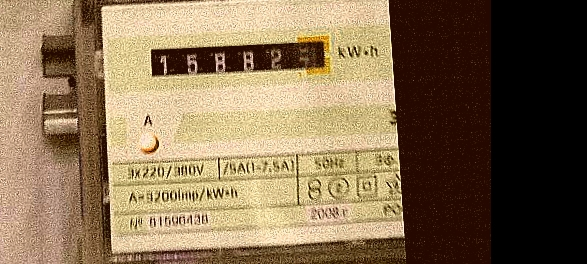1: (155, 52, 171, 75)
2: (266, 46, 284, 71)
5: (183, 50, 199, 76)
7: (297, 51, 310, 69)
8: (239, 48, 255, 73), (211, 50, 226, 74)
screen: (139, 27, 340, 95)
